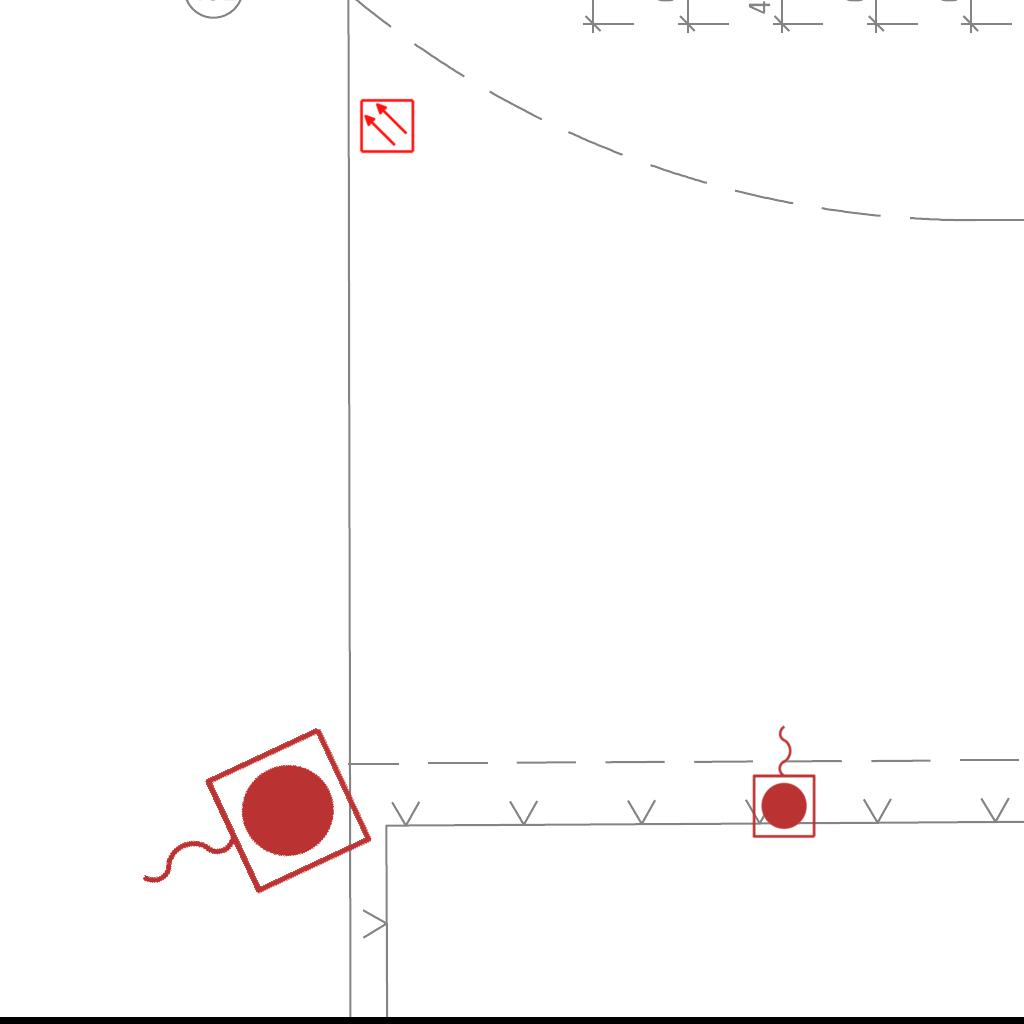RMO_Rauchmelder_optischer: (359, 98, 415, 154)
Zugtaster: (101, 713, 383, 947), (749, 720, 821, 842)
